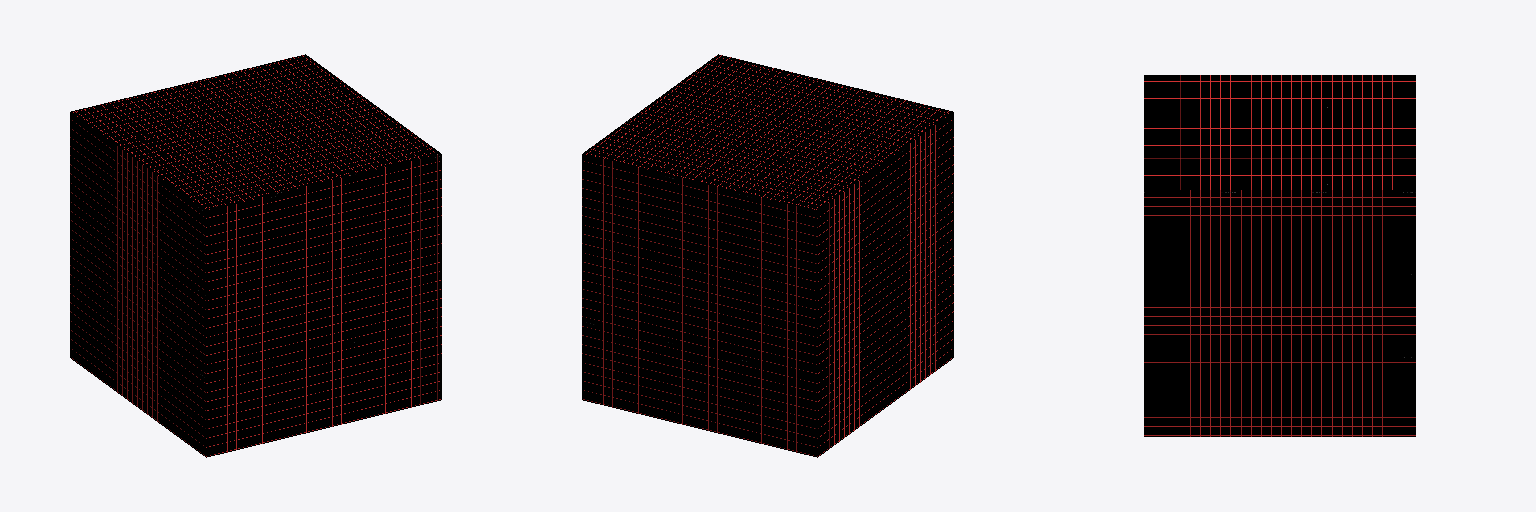
3 views of the same model, side by side, from view 1: azimuth 30°, elevation 25°; view 2: azimuth 150°, elevation 25°; view 3: azimuth 270°, elevation 25° (orthographic).
Parts seen in each view (by area): view 1: pCube3; view 2: pCube3; view 3: pCube3.
Part boxes in pixels (x1,y1,x2,y2): pCube3: (70,54,441,457); pCube3: (582,54,953,457); pCube3: (1144,75,1415,436).
Size of the model in its own units: 1 by 1 by 1.
1 materials, 1 textured.